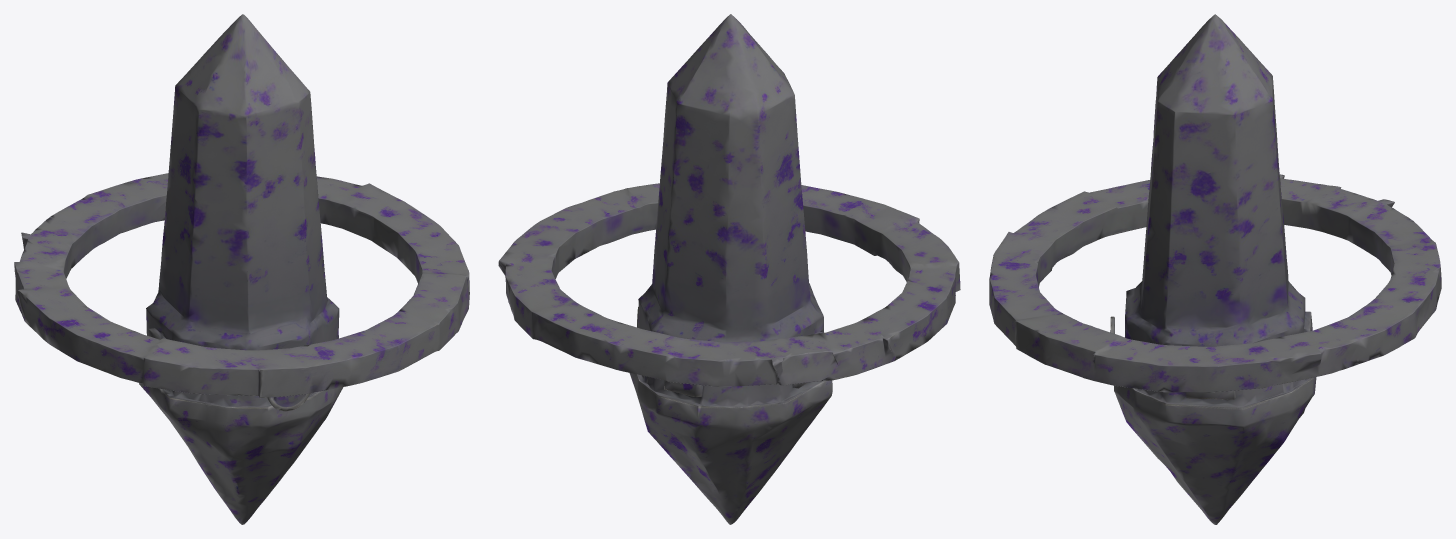
File: stage-beacon.glb
3 views of the same model, side by side, from view 1: azimuth 30°, elevation 25°; view 2: azimuth 150°, elevation 25°; view 3: azimuth 270°, elevation 25° (orthographic).
Visible parts, largest first — view 1: tripo_node_c263a05f-e455-43d9-a2b2-e44744d43db5; view 2: tripo_node_c263a05f-e455-43d9-a2b2-e44744d43db5; view 3: tripo_node_c263a05f-e455-43d9-a2b2-e44744d43db5.
Part boxes in pixels (bbox=[...]): tripo_node_c263a05f-e455-43d9-a2b2-e44744d43db5: bbox=[14, 14, 469, 524]; tripo_node_c263a05f-e455-43d9-a2b2-e44744d43db5: bbox=[498, 14, 960, 524]; tripo_node_c263a05f-e455-43d9-a2b2-e44744d43db5: bbox=[989, 14, 1441, 524].
Bounding box in the file's own units: 0.8002 × 1 × 0.8032.
1 material, 1 textured.
